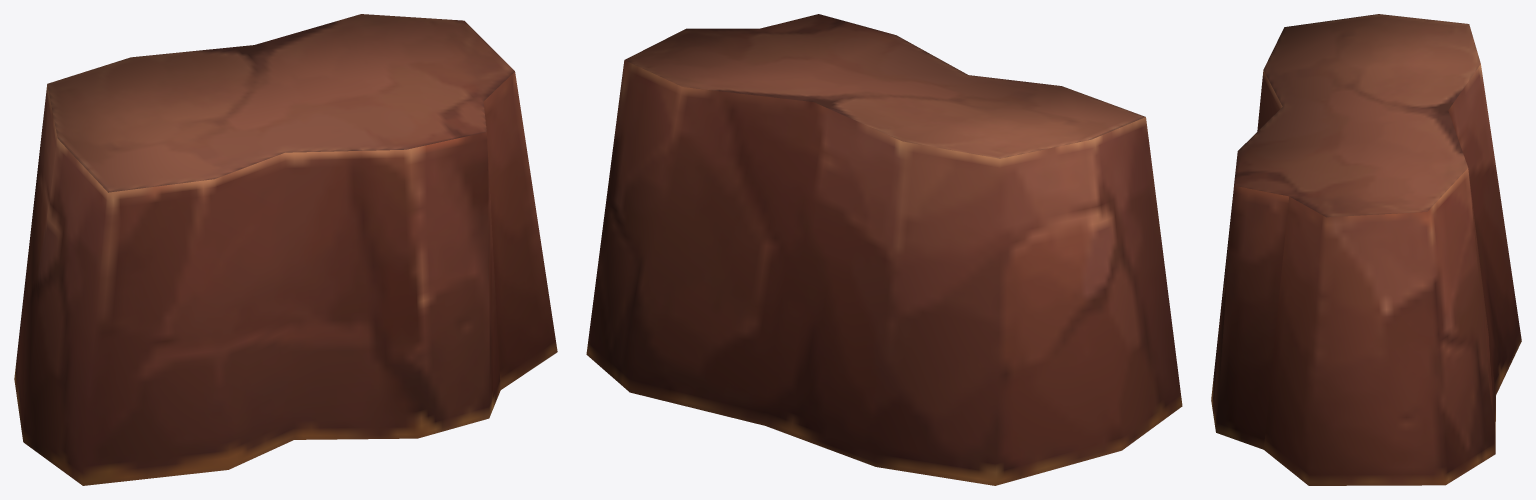
The model's file is shibi_02.FBX.
3 views of the same model, side by side, from view 1: azimuth 30°, elevation 25°; view 2: azimuth 150°, elevation 25°; view 3: azimuth 270°, elevation 25° (orthographic). The views are drawn at different scales.
Visible parts, largest first — view 1: shibi_02; view 2: shibi_02; view 3: shibi_02.
Boxes of the visible parts, <box> form: shibi_02: <box>14,14,557,485</box>; shibi_02: <box>586,14,1182,485</box>; shibi_02: <box>1211,14,1521,485</box>.
Size of the model in its own units: 4.24 by 2.51 by 2.56.
